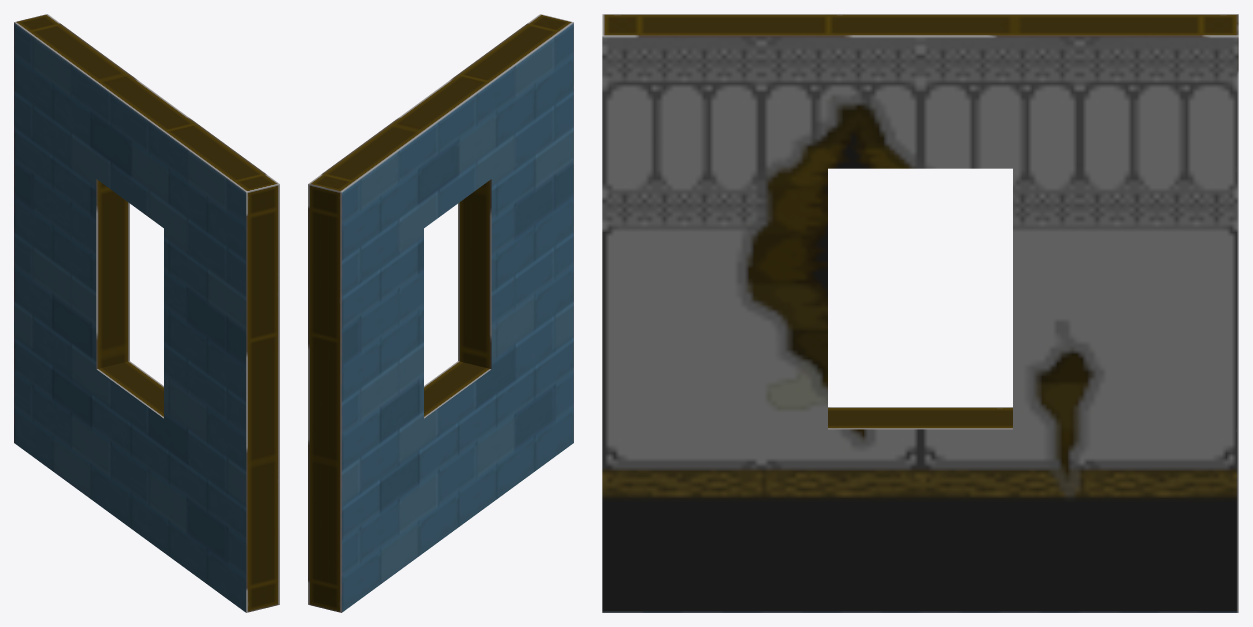
Rendered from Wallb_Window_07.fbx.
3 views of the same model, side by side, from view 1: azimuth 30°, elevation 25°; view 2: azimuth 150°, elevation 25°; view 3: azimuth 270°, elevation 25° (orthographic). The views are drawn at different scales.
Visible parts, largest first — view 1: Wallb_Window_07; view 2: Wallb_Window_07; view 3: Wallb_Window_07.
Boxes of the visible parts, x1,y1,x2,y2 form: Wallb_Window_07: [14, 14, 279, 612]; Wallb_Window_07: [308, 14, 573, 612]; Wallb_Window_07: [602, 14, 1238, 612].
Bounding box in the file's own units: 50 × 600 × 600.
